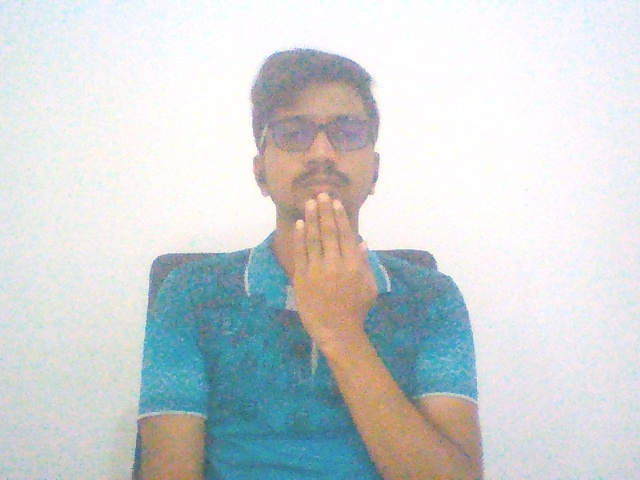mango: (268, 173, 407, 365)
